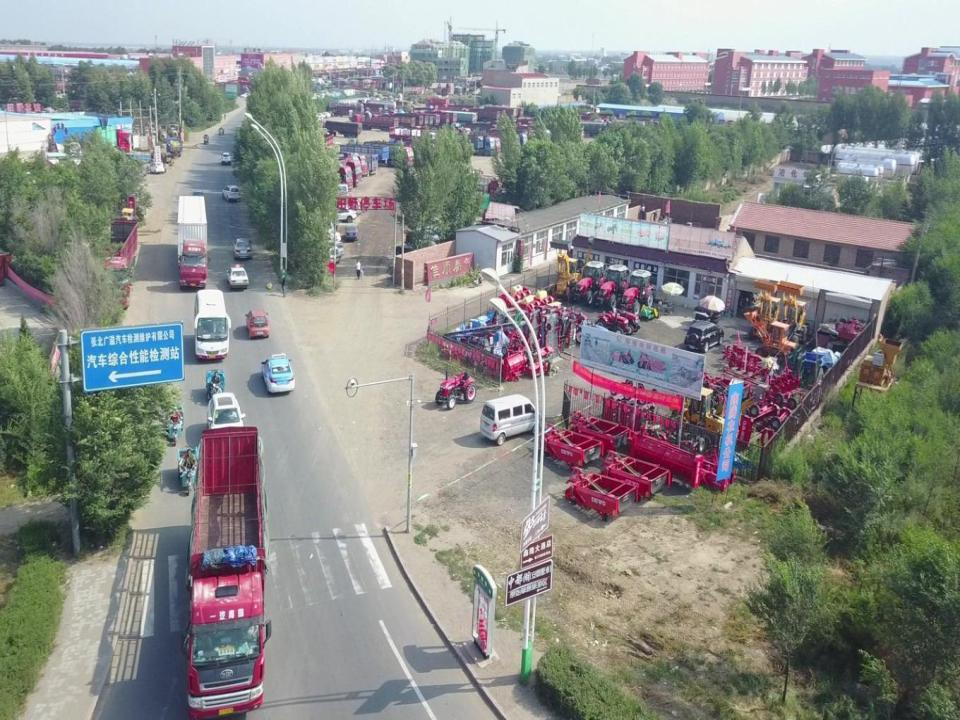bus: (192, 287, 232, 362)
car: (206, 391, 249, 448), (259, 350, 296, 394), (683, 319, 725, 353), (244, 308, 270, 340), (225, 262, 249, 290), (327, 203, 358, 223), (232, 236, 253, 261), (220, 184, 242, 204), (316, 227, 342, 243), (342, 221, 360, 242), (149, 160, 165, 174), (220, 150, 232, 166)
truck: (180, 420, 273, 720), (90, 219, 139, 310), (174, 193, 213, 291), (82, 122, 130, 156), (166, 136, 183, 157)
van: (479, 392, 544, 447), (318, 239, 340, 265)
